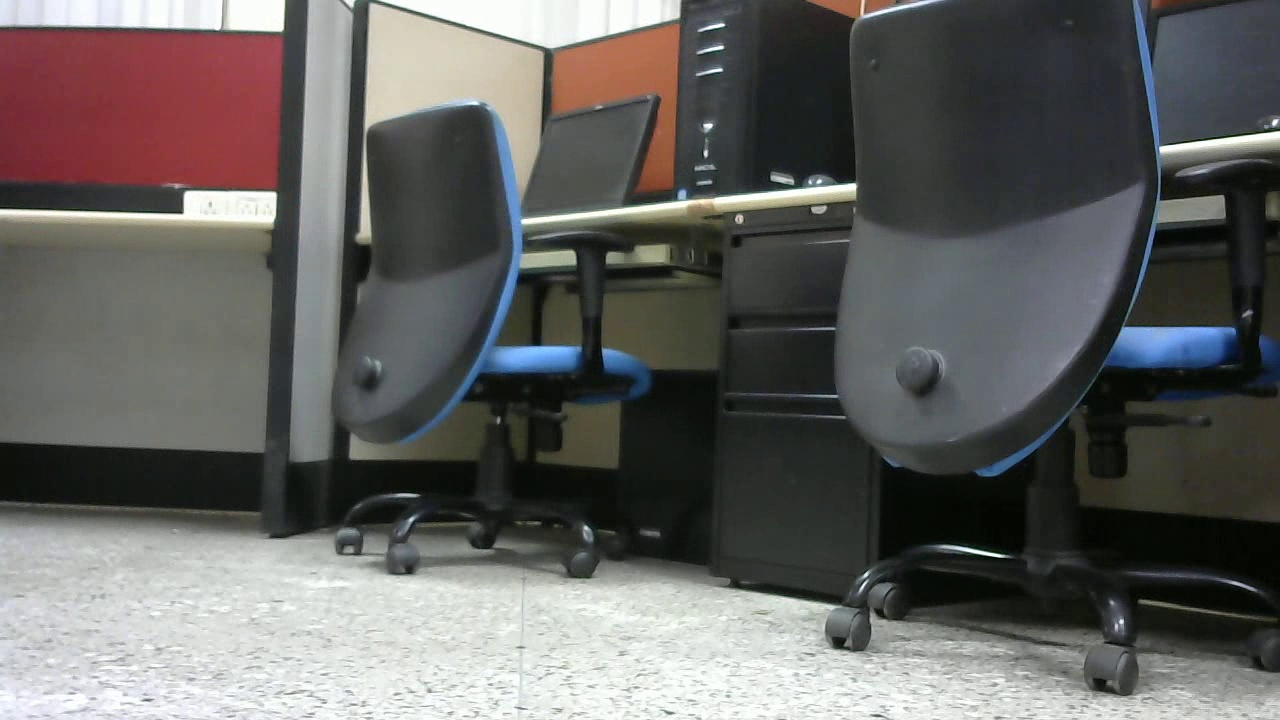chair: (811, 1, 1280, 698), (322, 91, 656, 581)
